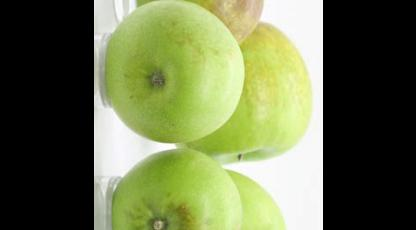defect: (201, 0, 266, 35), (164, 206, 238, 230)
